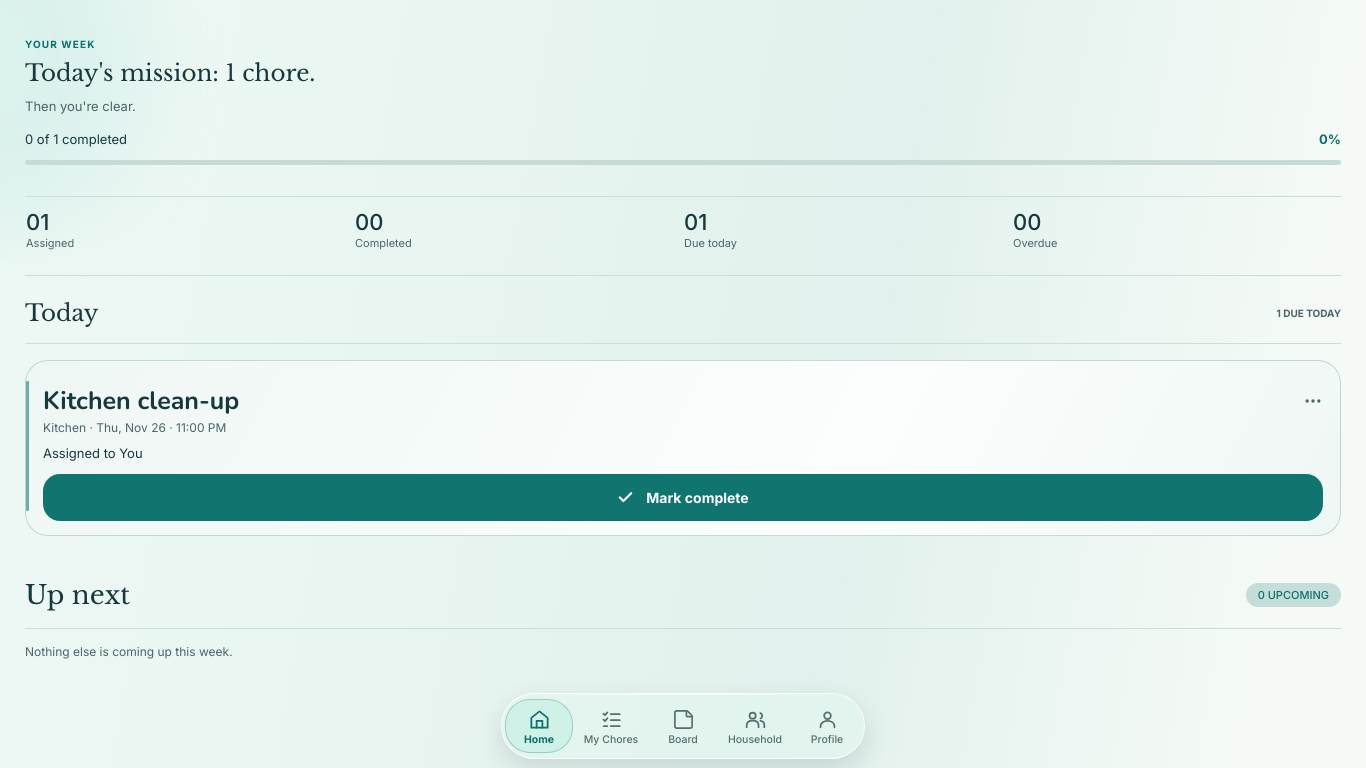
Test: single-occurrence actions on Home and My Chores › rolls a move back and explains why when the server refuses it
Later steps or results of the test are not shown.
(page scrolled)
Check: the heading "Today" is shown, box [25,300,98,328]
Step 1. Click the button named "More actions for Kitchen clean-up" → (1313, 401), box [1291,379,1335,423]
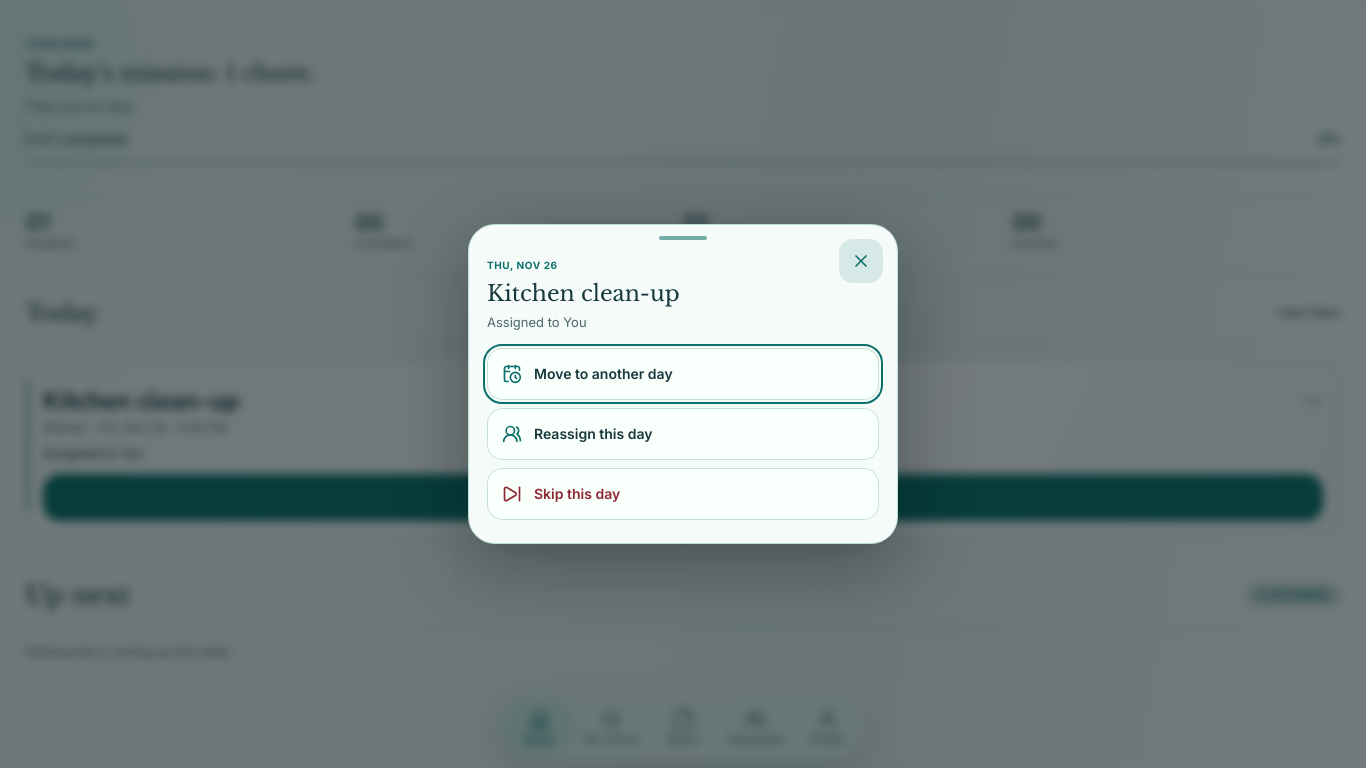
Step 2. Click the button "Move to another day" → (603, 374), box [487,348,879,400]
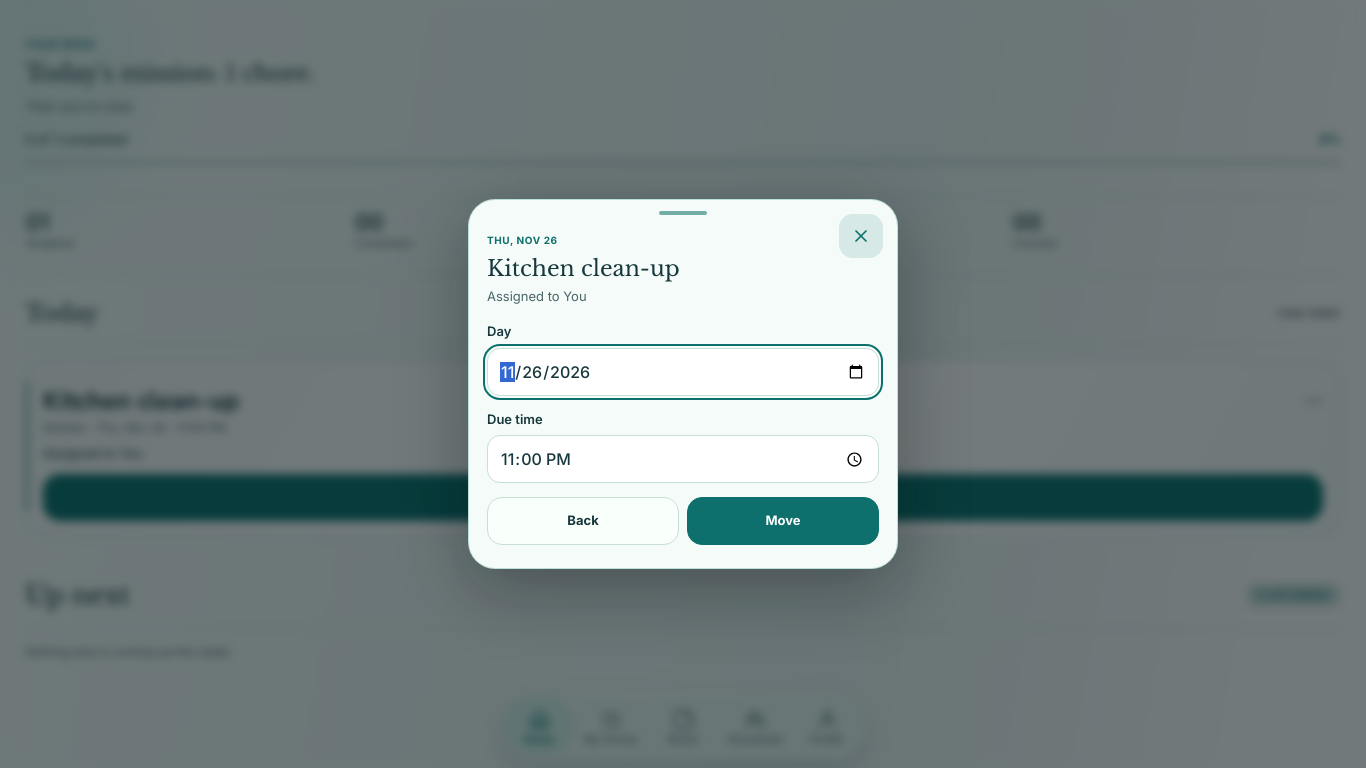
Step 3. Type "2026-11-27" into the date field labelled "Day" → (683, 372), box [487,348,879,396]
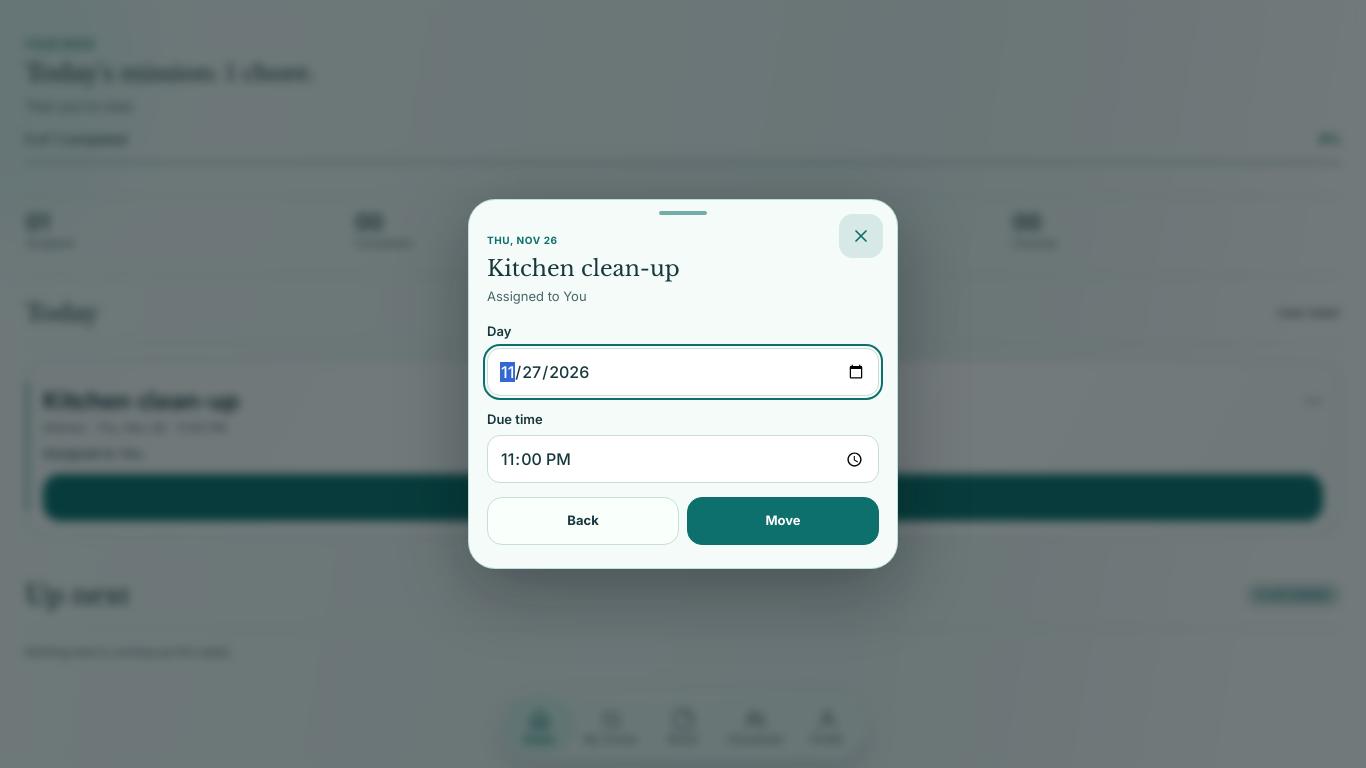
Step 4. Click the button "Move" → (783, 521), box [687,497,879,545]
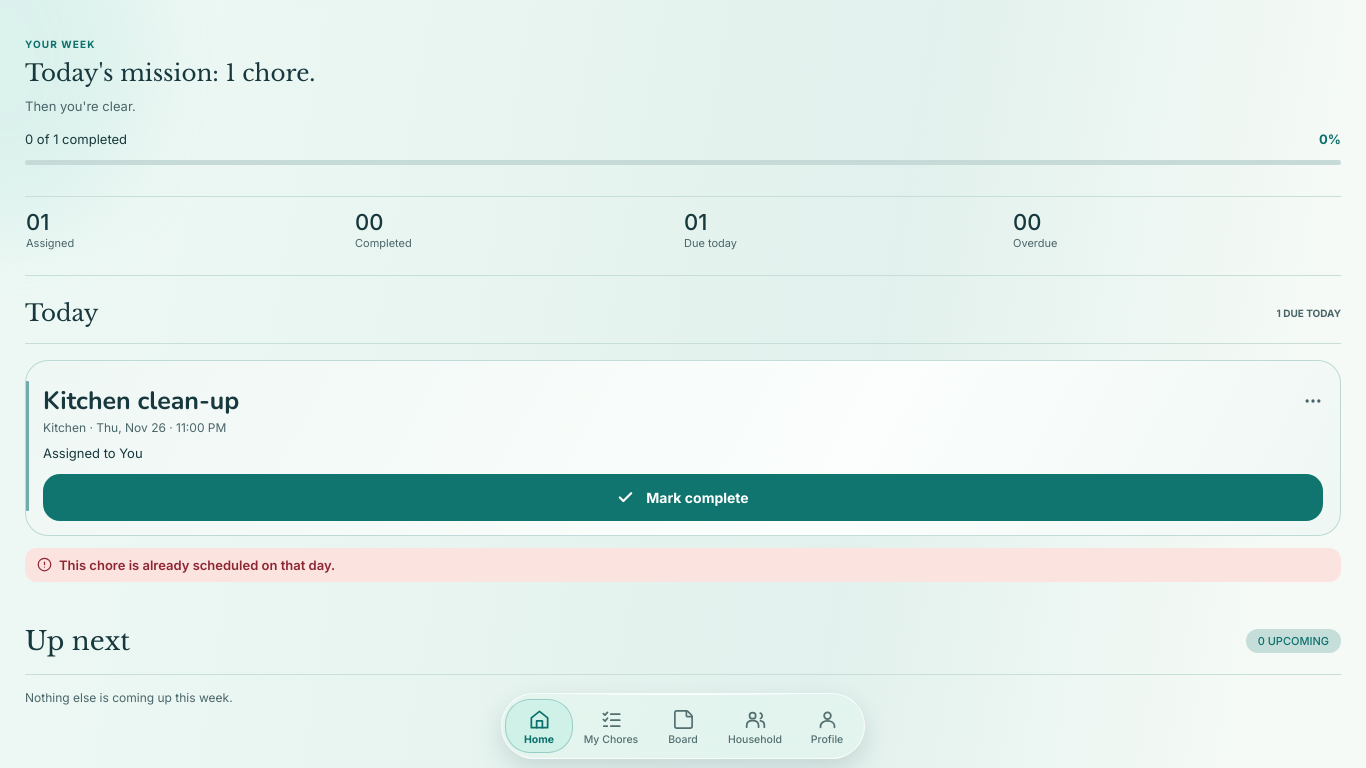
Check: the button "Mark complete" is shown, box [43,474,1323,521]
Check: the dialog is gone
Check: the message reads "This chore is already scheduled on that day.", box [59,557,335,573]
